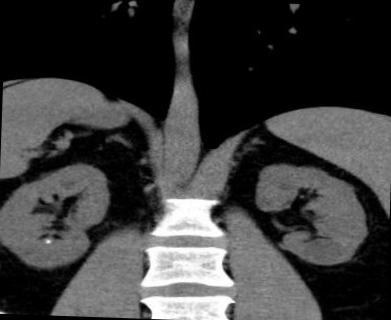Tas_Var: (44, 238, 51, 244)
